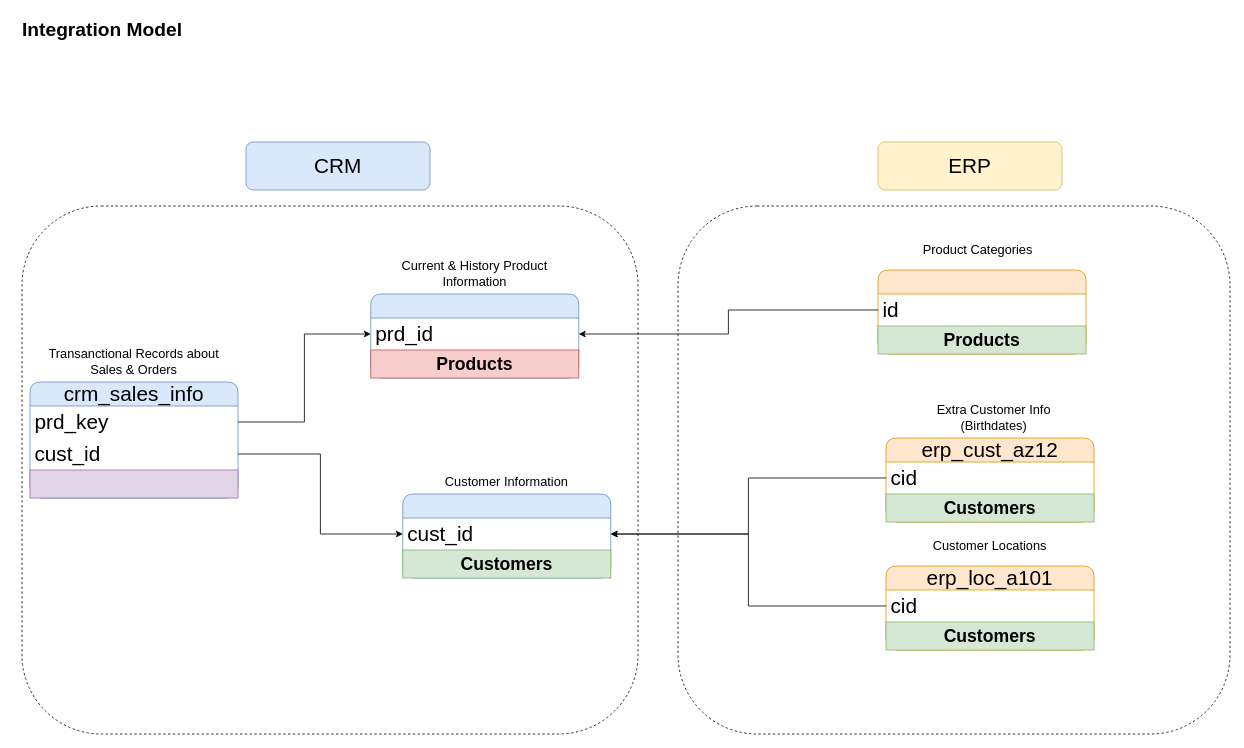
The diagram is 1244 pixels wide and 748 high, and some of its shapes have lost their labels. Each missing label, with the box of its shape:
crm_cust_info: (402, 493, 611, 578)
crm_prd_info: (370, 293, 579, 378)
erp_px_cat__g1v2: (877, 269, 1086, 354)
Sales: (29, 469, 238, 498)
